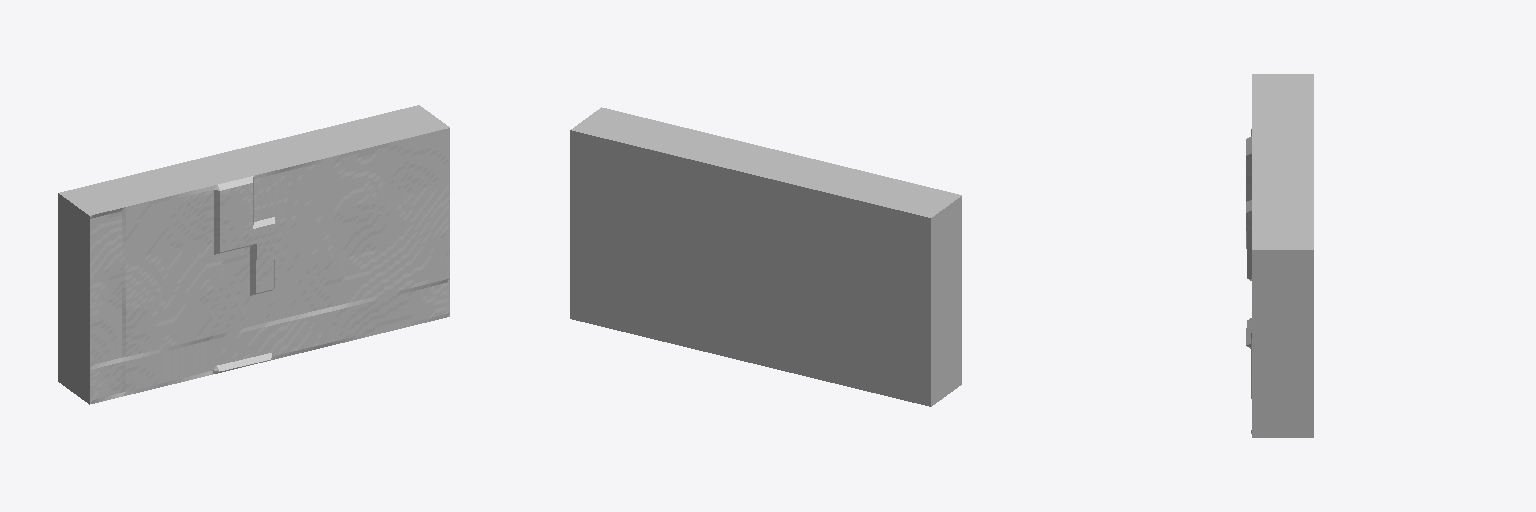
The model's file is rectangular_prism_bumps_1_7.obj.
3 renders of one model, left to right at view 1: azimuth 30°, elevation 25°; view 2: azimuth 150°, elevation 25°; view 3: azimuth 270°, elevation 25°, orthographic.
Bounding box in the file's own units: 10 × 5 × 1.66.